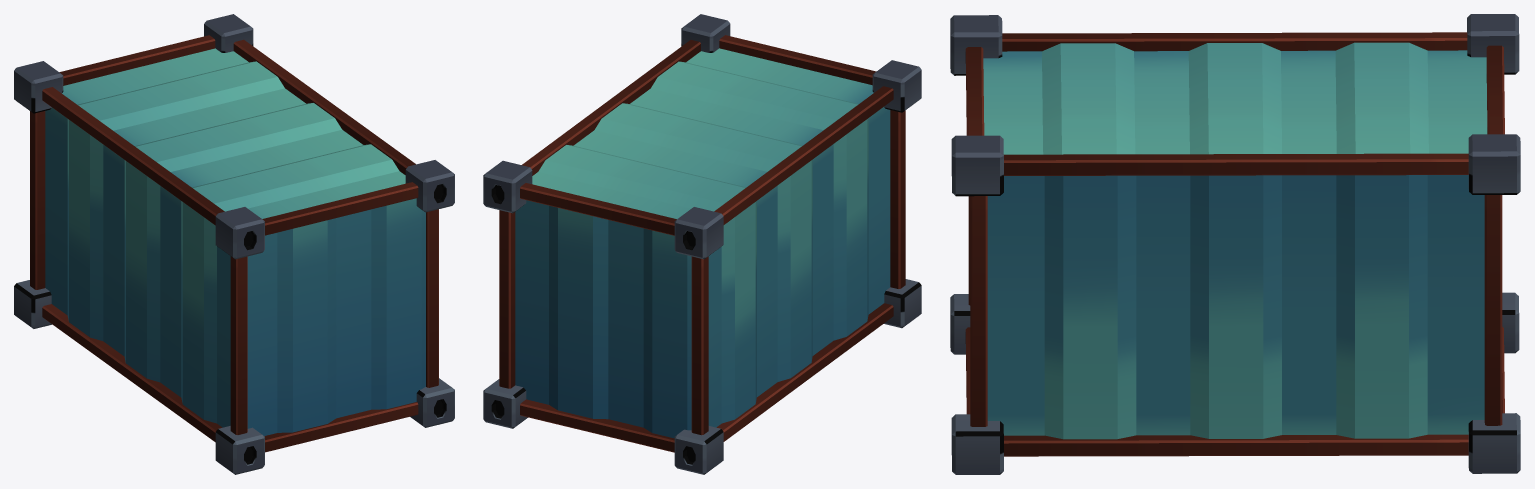
Rendered from greenbox.fbx.
3 renders of one model, left to right at view 1: azimuth 30°, elevation 25°; view 2: azimuth 150°, elevation 25°; view 3: azimuth 270°, elevation 25°, orthographic. The views are drawn at different scales.
Parts seen in each view (by area): view 1: greenbox; view 2: greenbox; view 3: greenbox.
Boxes of the visible parts, box(x1,y1,x2,y2) form: greenbox: box(14, 14, 454, 474); greenbox: box(483, 14, 921, 474); greenbox: box(950, 14, 1520, 474).
Bounding box in the file's own units: 295 × 312 × 501.
1 material, 1 textured.
